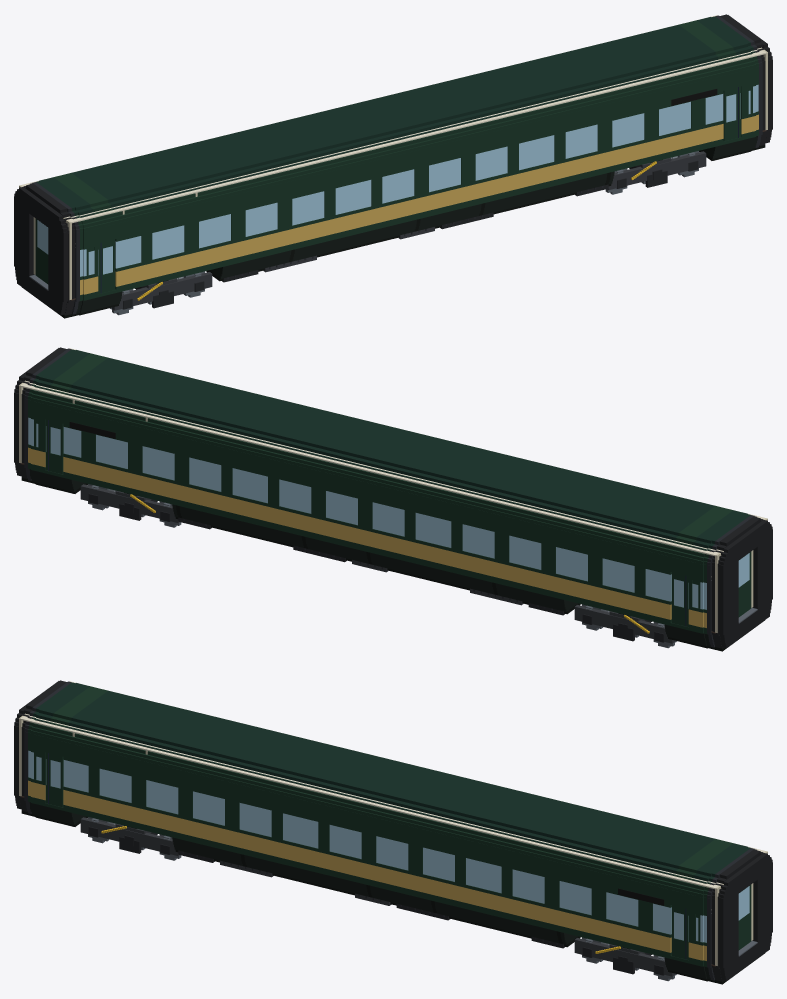
Rendered from gg1_car.obj.
The picture shows the model from 3 angles, top to bottom: view 1: azimuth 30°, elevation 25°; view 2: azimuth 150°, elevation 25°; view 3: azimuth 330°, elevation 25°; orthographic projection.
Parts seen in each view (by area): view 1: SHELL, SHELL_diaphragm, SHELL_ceiling, BOGEY_FRONT, BOGEY_REAR, FRAME, EXTERNAL_DOOR_10_CG_DR2_TOGGLE_TL_-0.44_X, CONNECTING_DOOR_1_CG_CR_TOGGLE_TL_0.98_Z, EXTERNAL_DOOR_5_CG_DR1_TOGGLE_TL_0.44_X, SHELL_end; view 2: SHELL, SHELL_diaphragm, SHELL_ceiling, BOGEY_FRONT, BOGEY_REAR, FRAME, EXTERNAL_DOOR_13_CG_DL2_TOGGLE_TL_-0.44_X, CONNECTING_DOOR_1_CG_CR_TOGGLE_TL_0.98_Z, EXTERNAL_DOOR_8_CG_DL1_TOGGLE_TL_0.44_X, SHELL_end; view 3: SHELL, SHELL_diaphragm, SHELL_ceiling, BOGEY_REAR, BOGEY_FRONT, FRAME, EXTERNAL_DOOR_10_CG_DR2_TOGGLE_TL_-0.44_X, CONNECTING_DOOR_2_CG_CF_TOGGLE_TL_0.98_Z, EXTERNAL_DOOR_5_CG_DR1_TOGGLE_TL_0.44_X, SHELL_end.
Boxes of the visible parts, box(x1,y1,x2,y2) form: SHELL: box(22, 14, 768, 318); SHELL_diaphragm: box(14, 15, 772, 315); SHELL_ceiling: box(21, 15, 766, 223); BOGEY_FRONT: box(607, 151, 706, 190); BOGEY_REAR: box(112, 272, 212, 310); FRAME: box(222, 184, 608, 282); EXTERNAL_DOOR_10_CG_DR2_TOGGLE_TL_-0.44_X: box(723, 87, 738, 141); CONNECTING_DOOR_1_CG_CR_TOGGLE_TL_0.98_Z: box(35, 218, 48, 284); EXTERNAL_DOOR_5_CG_DR1_TOGGLE_TL_0.44_X: box(101, 239, 115, 292); SHELL_end: box(19, 15, 767, 299); SHELL: box(18, 347, 764, 651); SHELL_diaphragm: box(14, 348, 772, 648); SHELL_ceiling: box(20, 348, 765, 556); BOGEY_FRONT: box(80, 484, 179, 523); BOGEY_REAR: box(574, 605, 674, 643); FRAME: box(178, 517, 564, 615); EXTERNAL_DOOR_13_CG_DL2_TOGGLE_TL_-0.44_X: box(48, 420, 63, 474); CONNECTING_DOOR_1_CG_CR_TOGGLE_TL_0.98_Z: box(738, 551, 751, 617); EXTERNAL_DOOR_8_CG_DL1_TOGGLE_TL_0.44_X: box(671, 572, 685, 625); SHELL_end: box(19, 348, 767, 632); SHELL: box(18, 680, 764, 984); SHELL_diaphragm: box(14, 681, 772, 981); SHELL_ceiling: box(21, 681, 765, 889); BOGEY_REAR: box(80, 817, 179, 856); BOGEY_FRONT: box(574, 938, 674, 976); FRAME: box(178, 850, 564, 948); EXTERNAL_DOOR_10_CG_DR2_TOGGLE_TL_-0.44_X: box(671, 905, 686, 959); CONNECTING_DOOR_2_CG_CF_TOGGLE_TL_0.98_Z: box(738, 884, 751, 950); EXTERNAL_DOOR_5_CG_DR1_TOGGLE_TL_0.44_X: box(49, 753, 63, 807); SHELL_end: box(19, 681, 767, 965).
Size of the model in its own units: 24.72 by 4.1 by 3.22.
Materials: 1 (1 with a texture image).
